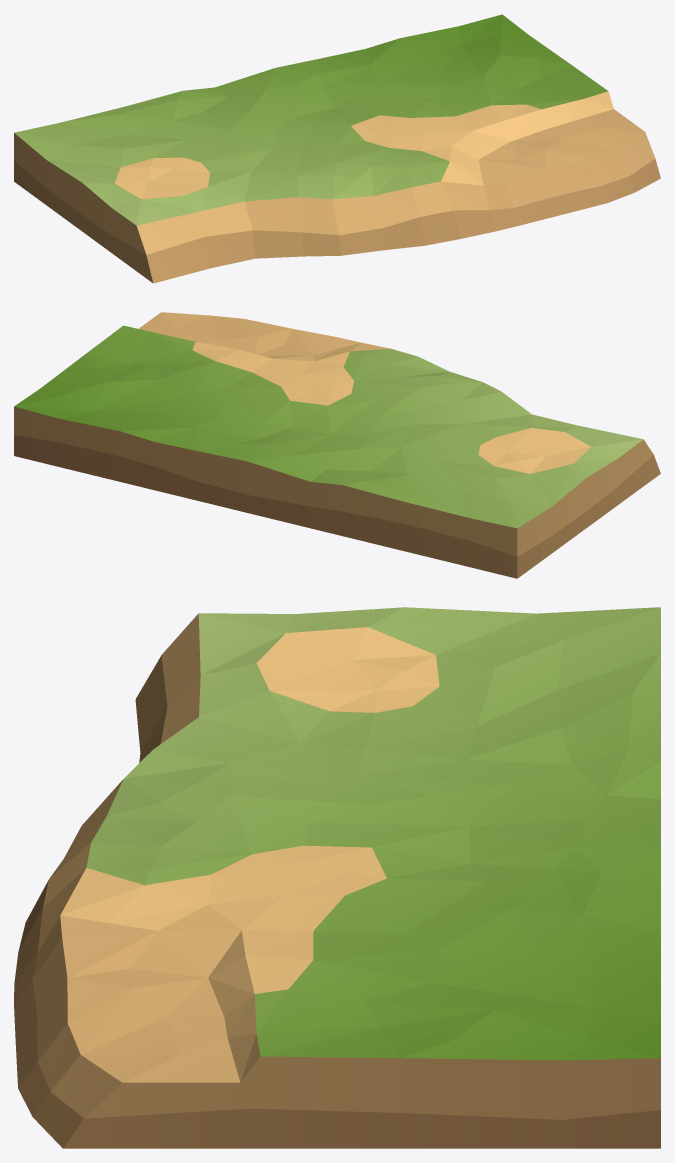
Rendered from land-ship-island.glb.
3 views of the same model, one above another, from view 1: azimuth 30°, elevation 25°; view 2: azimuth 150°, elevation 25°; view 3: azimuth 270°, elevation 25° (orthographic). The views are drawn at different scales.
Parts seen in each view (by area): view 1: land ship Island; view 2: land ship Island; view 3: land ship Island.
Boxes of the visible parts, left/top/right/bottom form: land ship Island: left=14, top=14, right=660, bottom=283; land ship Island: left=14, top=312, right=660, bottom=578; land ship Island: left=14, top=607, right=660, bottom=1148.
Size of the model in its own units: 45 by 4.48 by 27.38.
1 material, 1 textured.
